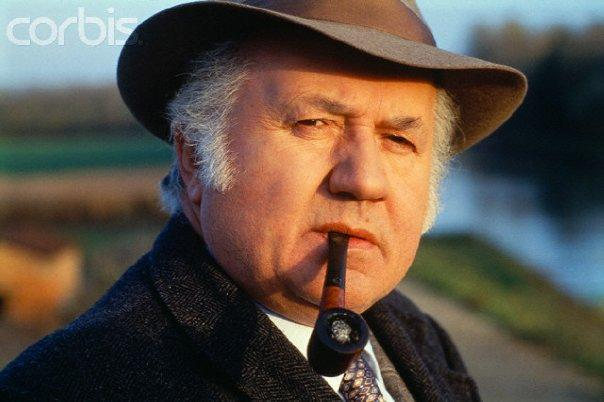trubka: (307, 233, 368, 376)
